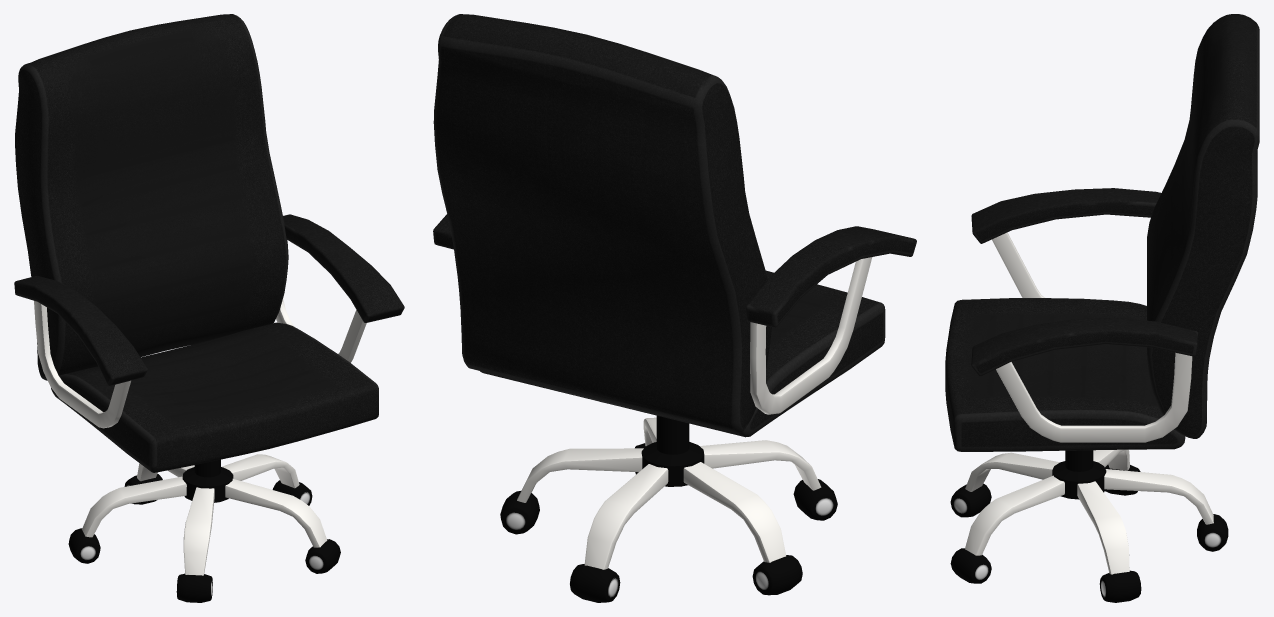
The model's file is ArmChair03.FBX.
3 renders of one model, left to right at view 1: azimuth 30°, elevation 25°; view 2: azimuth 150°, elevation 25°; view 3: azimuth 270°, elevation 25°, orthographic. The views are drawn at different scales.
Visible parts, largest first — view 1: ArmChair03; view 2: ArmChair03; view 3: ArmChair03.
Part boxes in pixels (box(x1,y1,x2,y2)): ArmChair03: box(14, 14, 404, 602); ArmChair03: box(433, 14, 916, 602); ArmChair03: box(945, 14, 1259, 602).
Size of the model in its own units: 908 by 1365 by 796.
